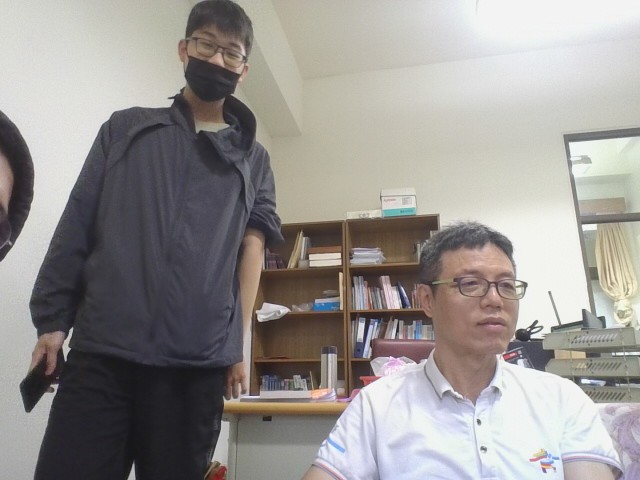No_Gloves: (21, 327, 68, 398), (222, 359, 250, 401)
No_Helmet: (413, 219, 529, 385), (174, 0, 256, 109)
person: (18, 1, 290, 478), (270, 203, 638, 480)
